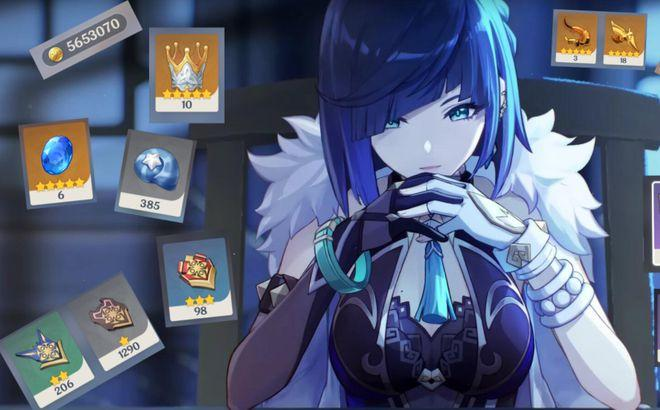夜兰: (230, 2, 643, 410)
